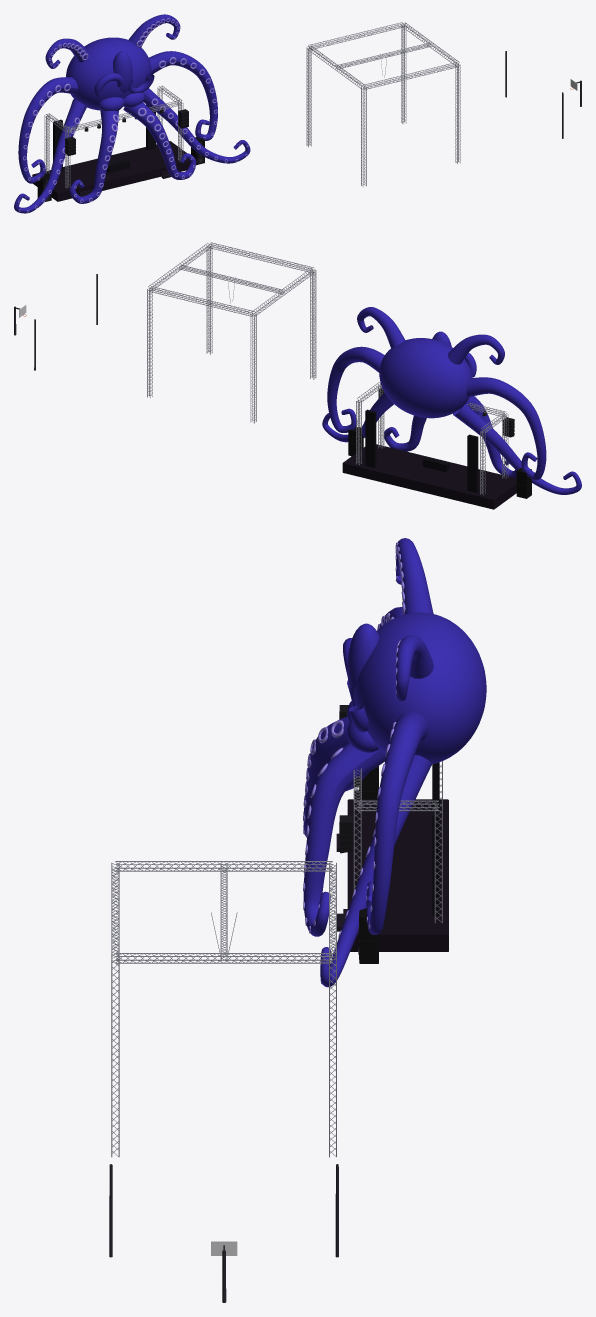
The model's file is poolx.glb.
3 renders of one model, top to bottom at view 1: azimuth 30°, elevation 25°; view 2: azimuth 150°, elevation 25°; view 3: azimuth 270°, elevation 25°, orthographic. The views are drawn at different scales.
Parts seen in each view (by area): view 1: baked; view 2: baked; view 3: baked.
Boxes of the visible parts, x1,y1,x2,y2 form: baked: (14, 14, 581, 213); baked: (14, 242, 581, 509); baked: (109, 538, 486, 1302).
Size of the model in its own units: 86.3 by 22.67 by 26.01.
